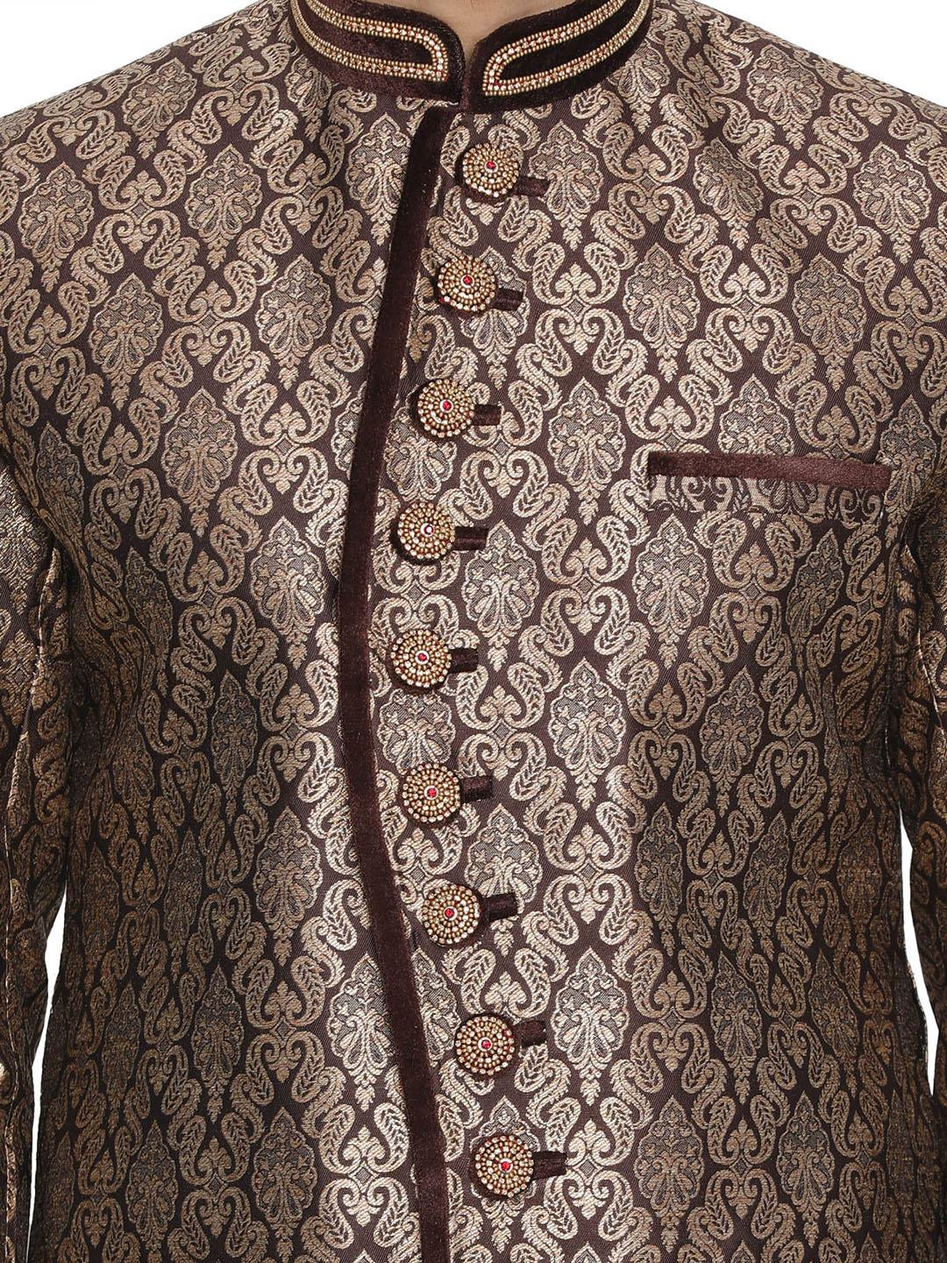Desgin sherwani: (0, 4, 945, 1259)
